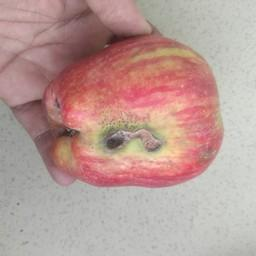Bad_apple: (33, 41, 222, 192)
